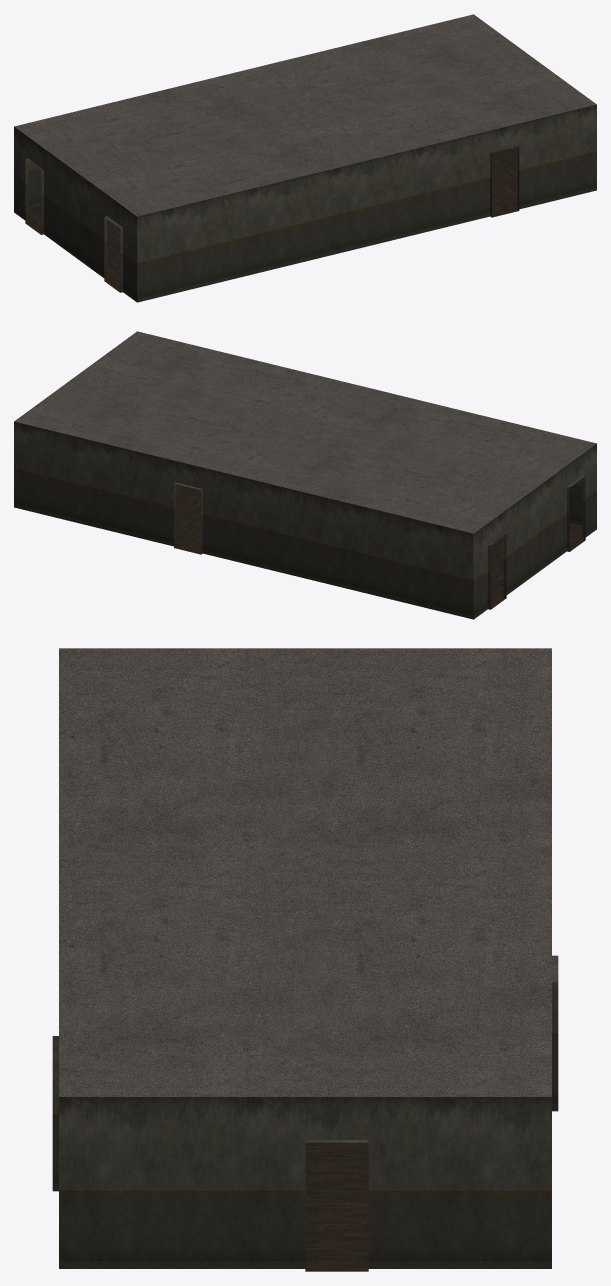
Rendered from commons_new.glb.
3 renders of one model, top to bottom at view 1: azimuth 30°, elevation 25°; view 2: azimuth 150°, elevation 25°; view 3: azimuth 270°, elevation 25°, orthographic. The views are drawn at different scales.
Parts seen in each view (by area): view 1: Commons-col; view 2: Commons-col; view 3: Commons-col.
Boxes of the visible parts, left/top/right/bottom form: Commons-col: left=14, top=14, right=596, bottom=302; Commons-col: left=14, top=331, right=596, bottom=619; Commons-col: left=52, top=648, right=558, bottom=1271.
Size of the model in its own units: 17 by 3 by 8.
Materials: 3 (3 with a texture image).
